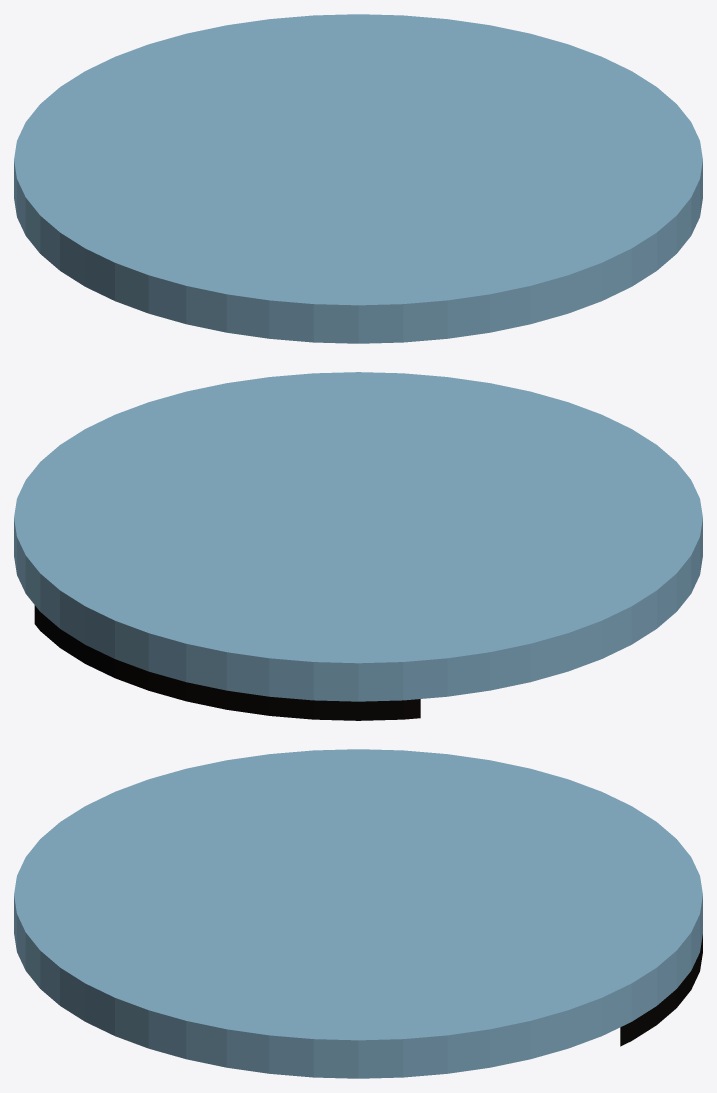
Rendered from sight_glass_low.obj.
3 renders of one model, top to bottom at view 1: azimuth 30°, elevation 25°; view 2: azimuth 150°, elevation 25°; view 3: azimuth 270°, elevation 25°, orthographic.
Parts seen in each view (by area): view 1: sight_glass_low; view 2: sight_glass_low; view 3: sight_glass_low.
Boxes of the visible parts, <box> form: sight_glass_low: <box>14,14,702,343</box>; sight_glass_low: <box>14,372,702,720</box>; sight_glass_low: <box>14,749,702,1078</box>.
Size of the model in its own units: 0.13 by 0.012 by 0.13.
